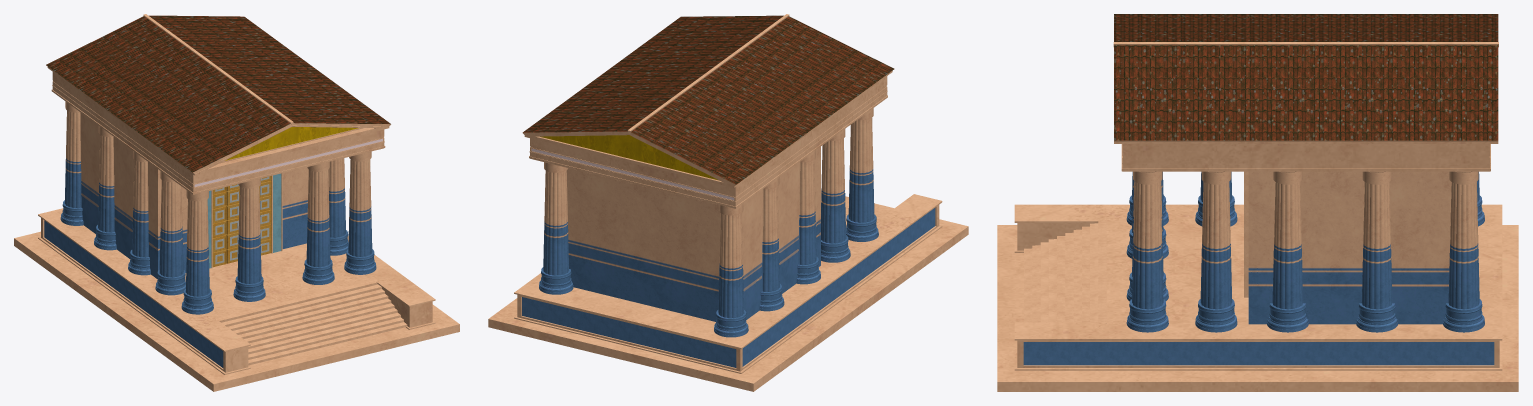
The model's file is RC_Small_Temple_01.gltf.
The picture shows the model from 3 angles, left to right: view 1: azimuth 30°, elevation 25°; view 2: azimuth 150°, elevation 25°; view 3: azimuth 270°, elevation 25°; orthographic projection. The views are drawn at different scales.
Parts seen in each view (by area): view 1: RC_Temple_01_Roof_01, RC_Temple_01_Base_01, RC_Temple_01_Pillar_01 (×9), RC_Temple_01_Structure_01, RC_Temple_01_Stairs_01, RC_Temple_01_Door_01; view 2: RC_Temple_01_Roof_01, RC_Temple_01_Base_01, RC_Temple_01_Structure_01, RC_Temple_01_Pillar_01 (×6); view 3: RC_Temple_01_Roof_01, RC_Temple_01_Base_01, RC_Temple_01_Pillar_01 (×7), RC_Temple_01_Structure_01, RC_Temple_01_Stairs_01.
Boxes of the visible parts, bbox=[...] form: RC_Temple_01_Roof_01: bbox=[46, 14, 390, 194]; RC_Temple_01_Base_01: bbox=[14, 208, 459, 391]; RC_Temple_01_Pillar_01 (×9): bbox=[60, 101, 376, 314]; RC_Temple_01_Structure_01: bbox=[80, 112, 308, 278]; RC_Temple_01_Stairs_01: bbox=[214, 279, 407, 365]; RC_Temple_01_Door_01: bbox=[212, 176, 271, 267]; RC_Temple_01_Roof_01: bbox=[522, 14, 894, 208]; RC_Temple_01_Base_01: bbox=[488, 190, 968, 391]; RC_Temple_01_Structure_01: bbox=[566, 147, 820, 321]; RC_Temple_01_Pillar_01 (×6): bbox=[539, 108, 878, 337]; RC_Temple_01_Roof_01: bbox=[1113, 14, 1498, 171]; RC_Temple_01_Base_01: bbox=[997, 204, 1518, 391]; RC_Temple_01_Pillar_01 (×7): bbox=[1126, 171, 1484, 332]; RC_Temple_01_Structure_01: bbox=[1244, 171, 1451, 324]; RC_Temple_01_Stairs_01: bbox=[1024, 220, 1106, 323].
Bounding box in the file's own units: 8.99 × 7.22 × 12.62.
